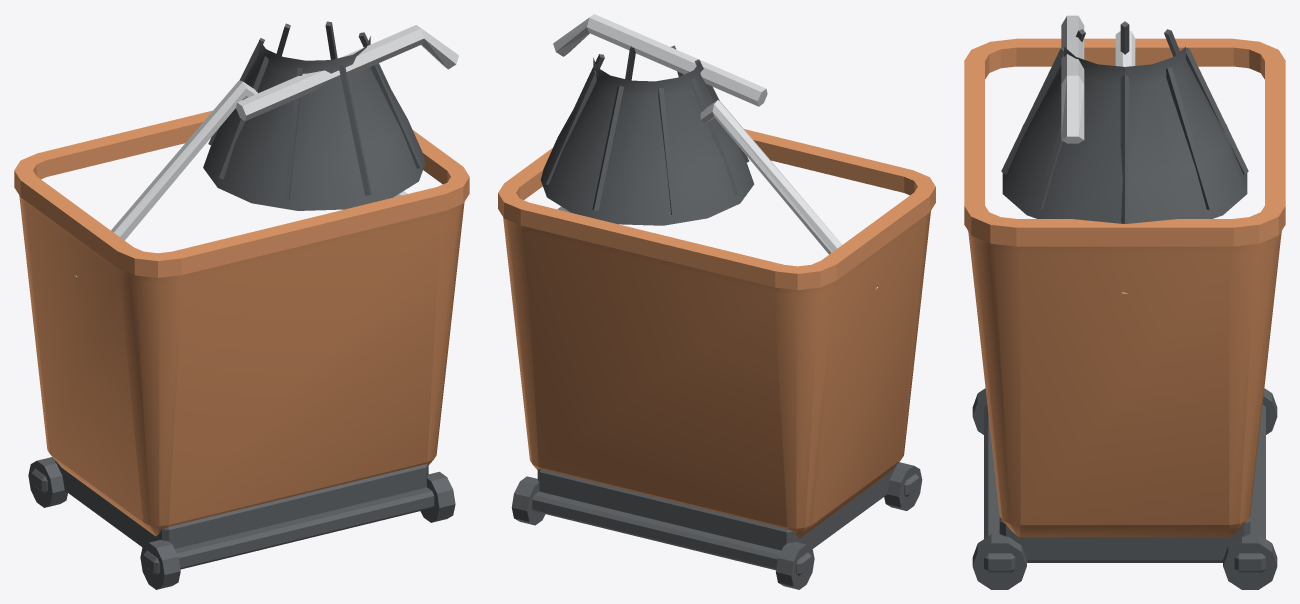
The model's file is home-appliances-and-utility-mop-bucket-wringer-b1b94682__14163.glb.
3 views of the same model, side by side, from view 1: azimuth 30°, elevation 25°; view 2: azimuth 150°, elevation 25°; view 3: azimuth 270°, elevation 25° (orthographic). The views are drawn at different scales.
Parts seen in each view (by area): view 1: mop-bucket-wringer; view 2: mop-bucket-wringer; view 3: mop-bucket-wringer.
Part boxes in pixels (box(x1,y1,x2,y2)): mop-bucket-wringer: box(14, 21, 469, 589); mop-bucket-wringer: box(498, 14, 935, 589); mop-bucket-wringer: box(964, 15, 1285, 589).
Bounding box in the file's own units: 0.4507 × 0.5482 × 0.308.
